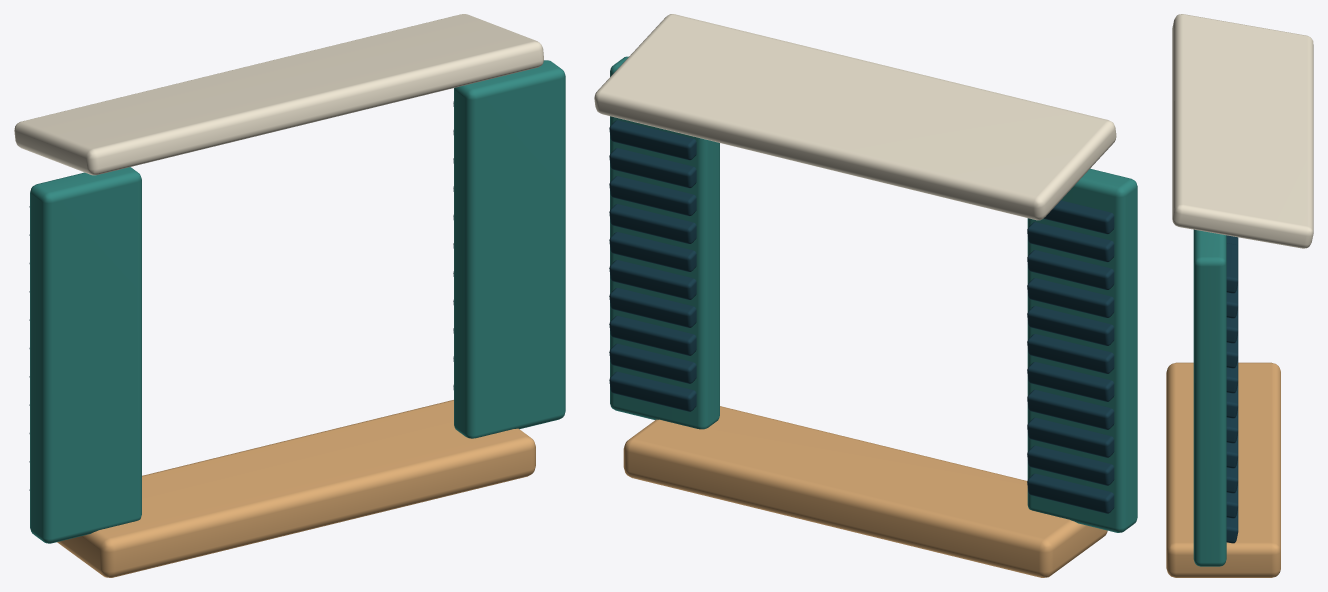
Rendered from Postigos.fbx.
3 views of the same model, side by side, from view 1: azimuth 30°, elevation 25°; view 2: azimuth 150°, elevation 25°; view 3: azimuth 270°, elevation 25° (orthographic). The views are drawn at different scales.
Visible parts, largest first — view 1: Surf_Teal.004, Surf_Almond.002, Surf_Ivory.002; view 2: Surf_Ivory.002, Surf_Navy.004, Surf_Almond.002, Surf_Teal.004; view 3: Surf_Ivory.002, Surf_Almond.002, Surf_Teal.004, Surf_Navy.004.
Boxes of the visible parts, <box> form: Surf_Teal.004: <box>30,60,565,543</box>; Surf_Almond.002: <box>57,400,535,577</box>; Surf_Ivory.002: <box>14,14,543,175</box>; Surf_Ivory.002: <box>594,14,1116,220</box>; Surf_Navy.004: <box>609,120,1114,513</box>; Surf_Almond.002: <box>623,406,1107,577</box>; Surf_Teal.004: <box>610,56,1137,532</box>; Surf_Ivory.002: <box>1172,14,1313,248</box>; Surf_Almond.002: <box>1166,362,1280,577</box>; Surf_Teal.004: <box>1193,229,1226,566</box>; Surf_Navy.004: <box>1226,235,1238,543</box>.
Bounding box in the file's own units: 1.95 × 1.53 × 0.5385.
